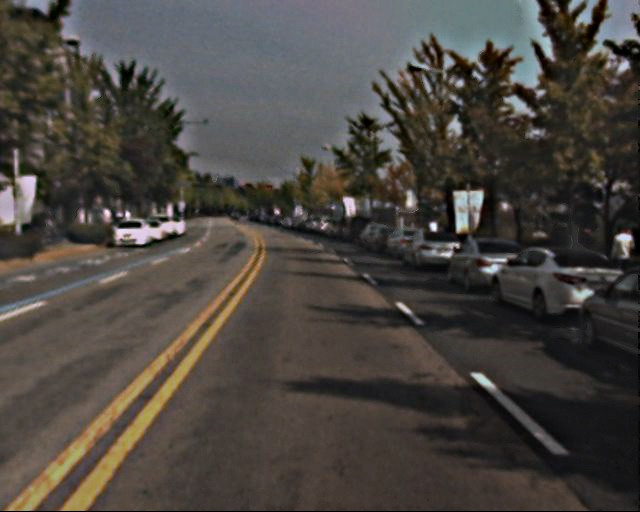person: (598, 223, 638, 295), (566, 222, 598, 286)
